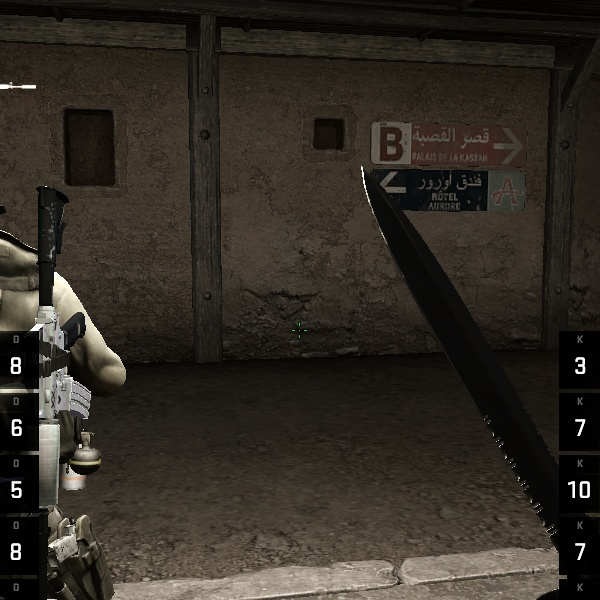ct_body: (4, 135, 169, 600)
